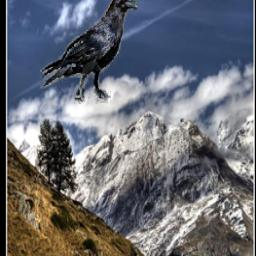Crow: (38, 0, 138, 105)
